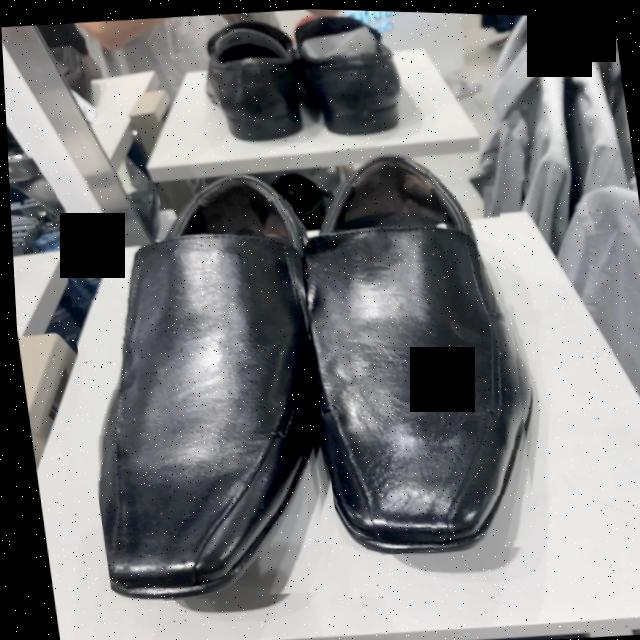shoe: (94, 176, 299, 600), (302, 157, 518, 551)
